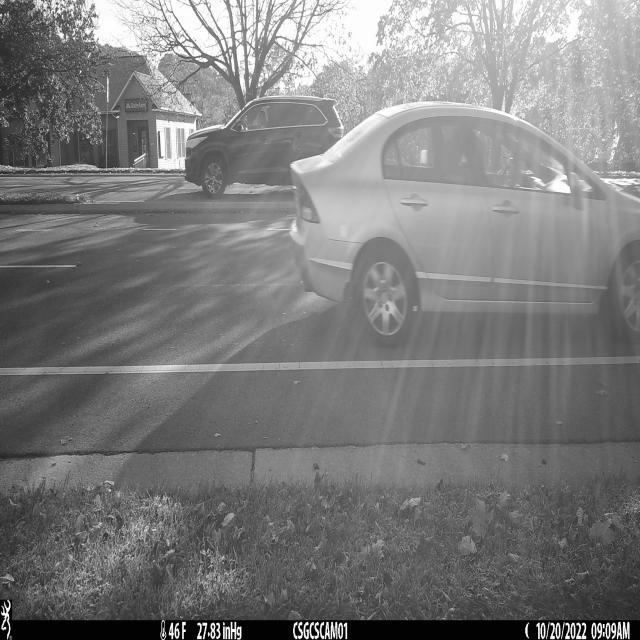SUV: (183, 96, 344, 196)
Sedan: (288, 102, 640, 336)
